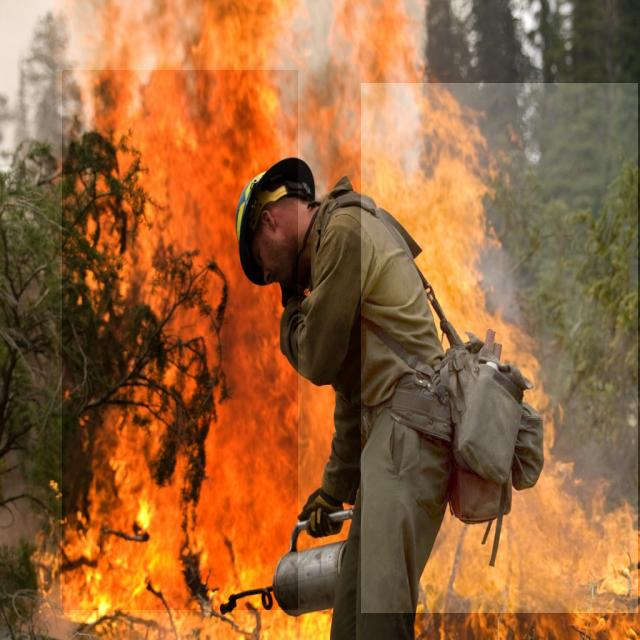Fire: (361, 83, 638, 613), (62, 70, 298, 610)
